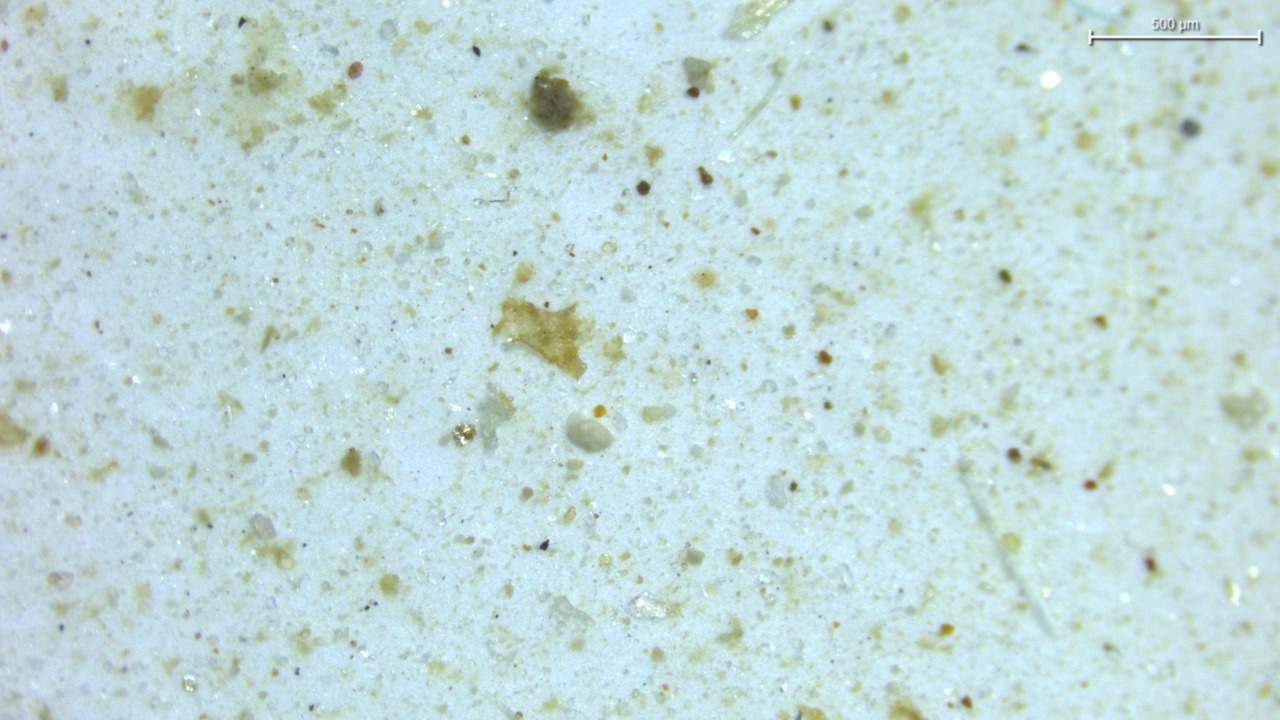microplastic_fragment: (565, 413, 615, 452), (683, 57, 711, 88)
